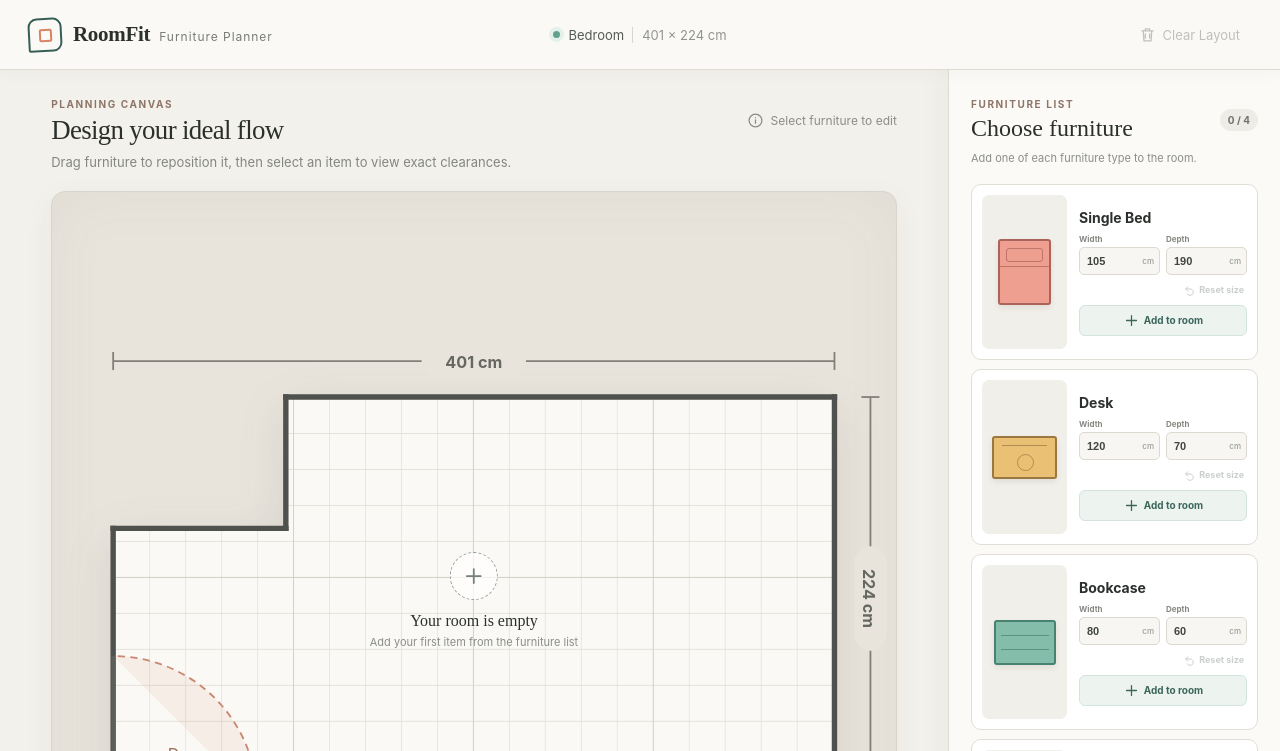
Scenario: RoomFit interface › rotates, nudges, and removes a selected item
Step 1. Click the button named "Add Desk" → point(1024, 457), box [982,380,1067,534]
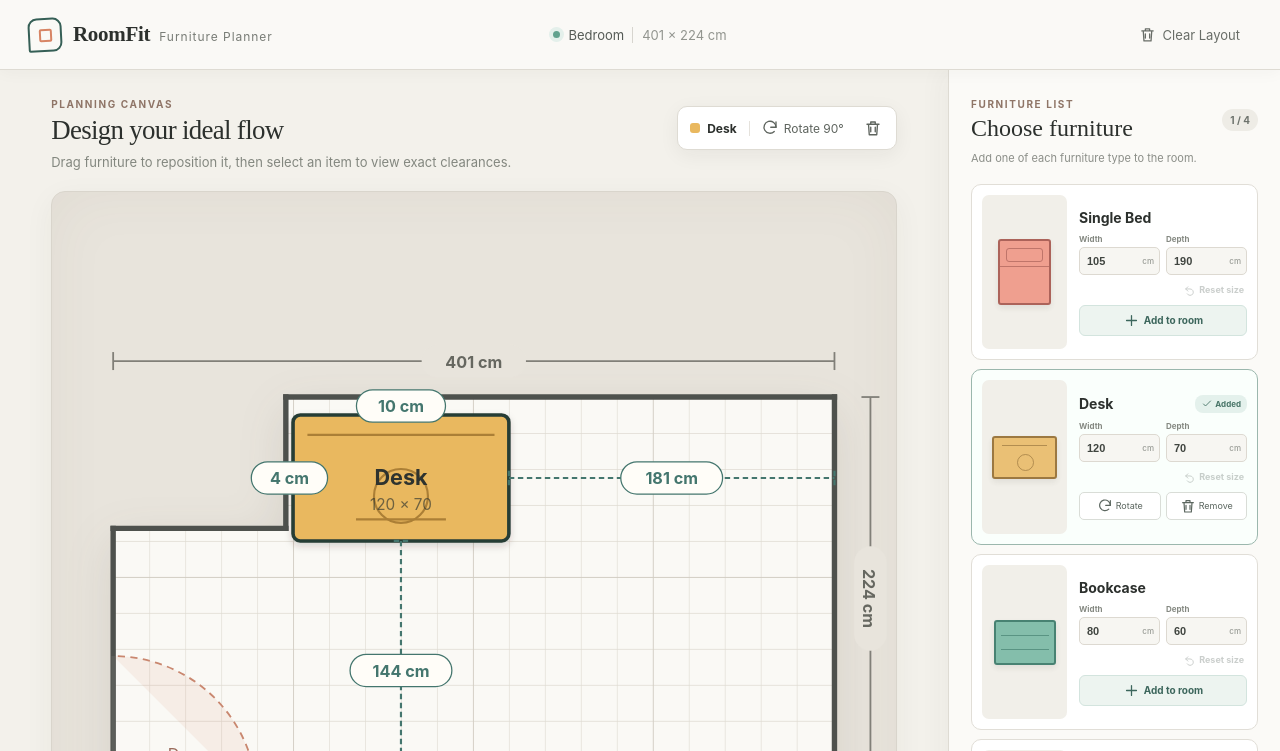
Step 2. Press ArrowRight in the button "Desk, 120 by 70 centimeters", box [370,464,432,514]
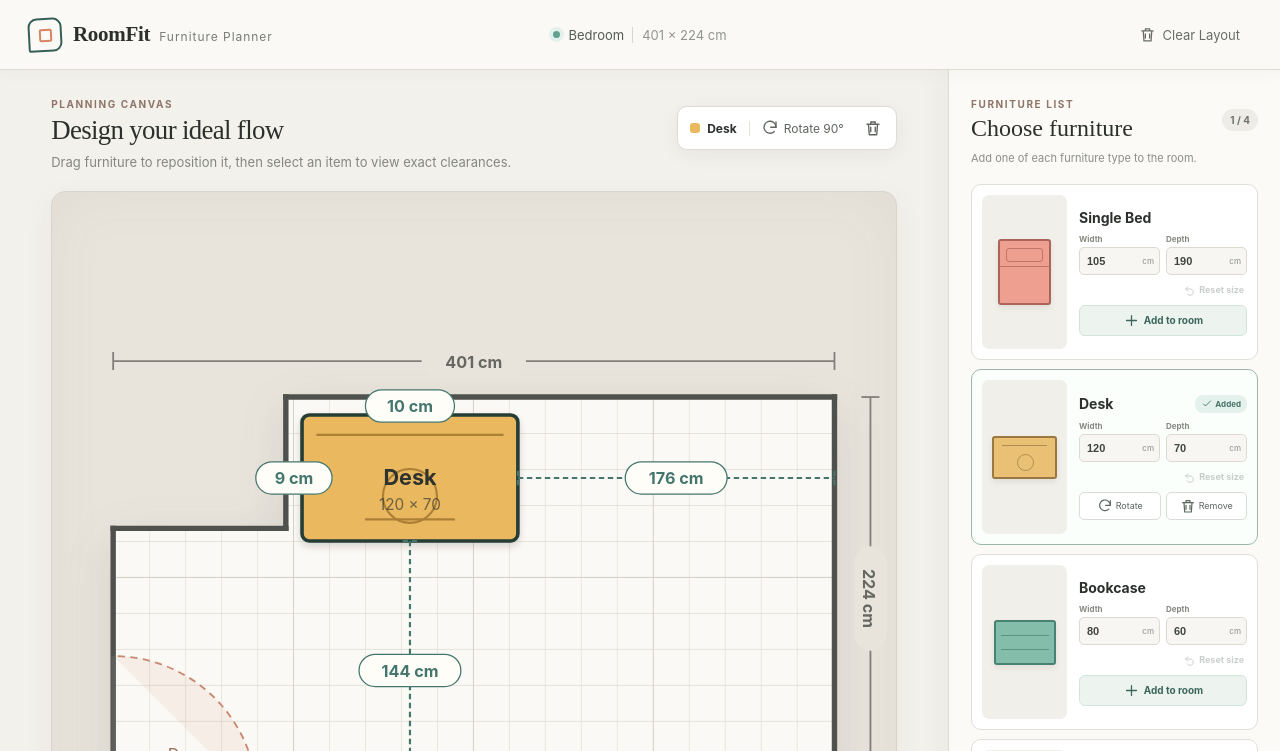
Step 3. Click the button "Rotate 90°" → point(802, 128), box [752,112,853,144]
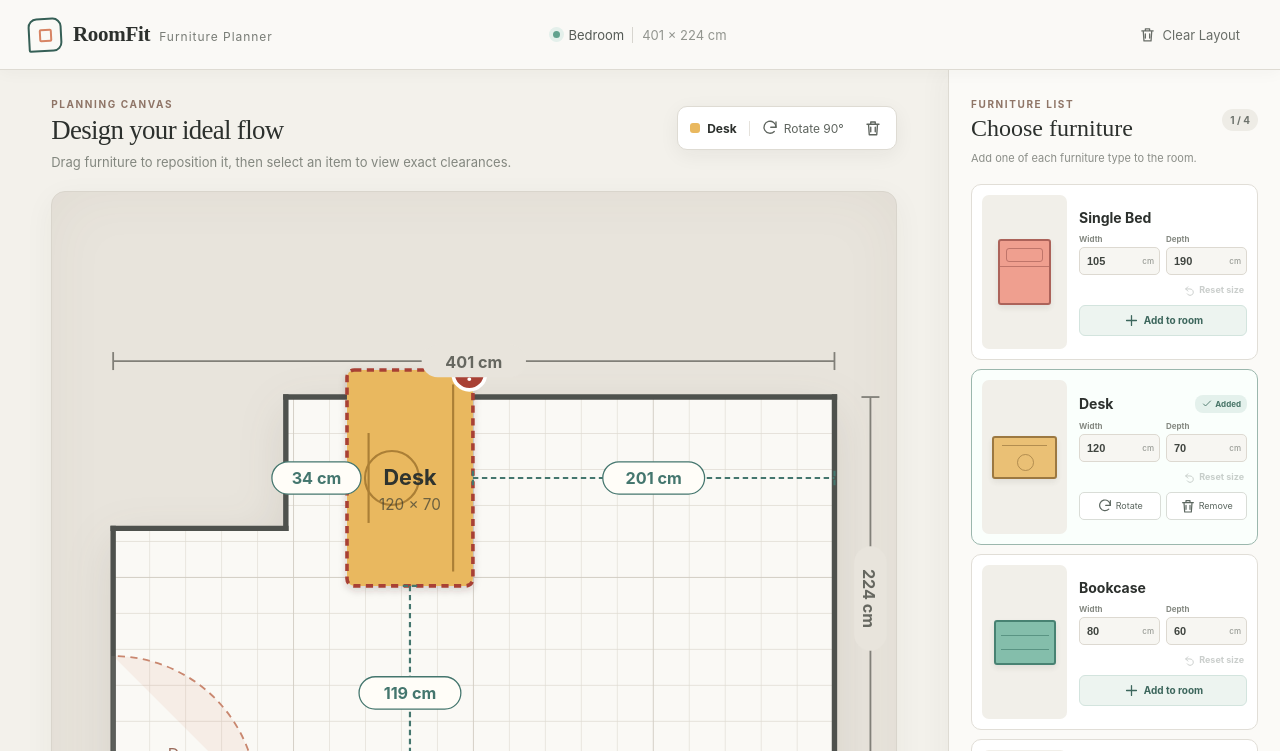
Step 4. Click the button titled "Remove furniture" → point(873, 128), box [855,112,891,144]
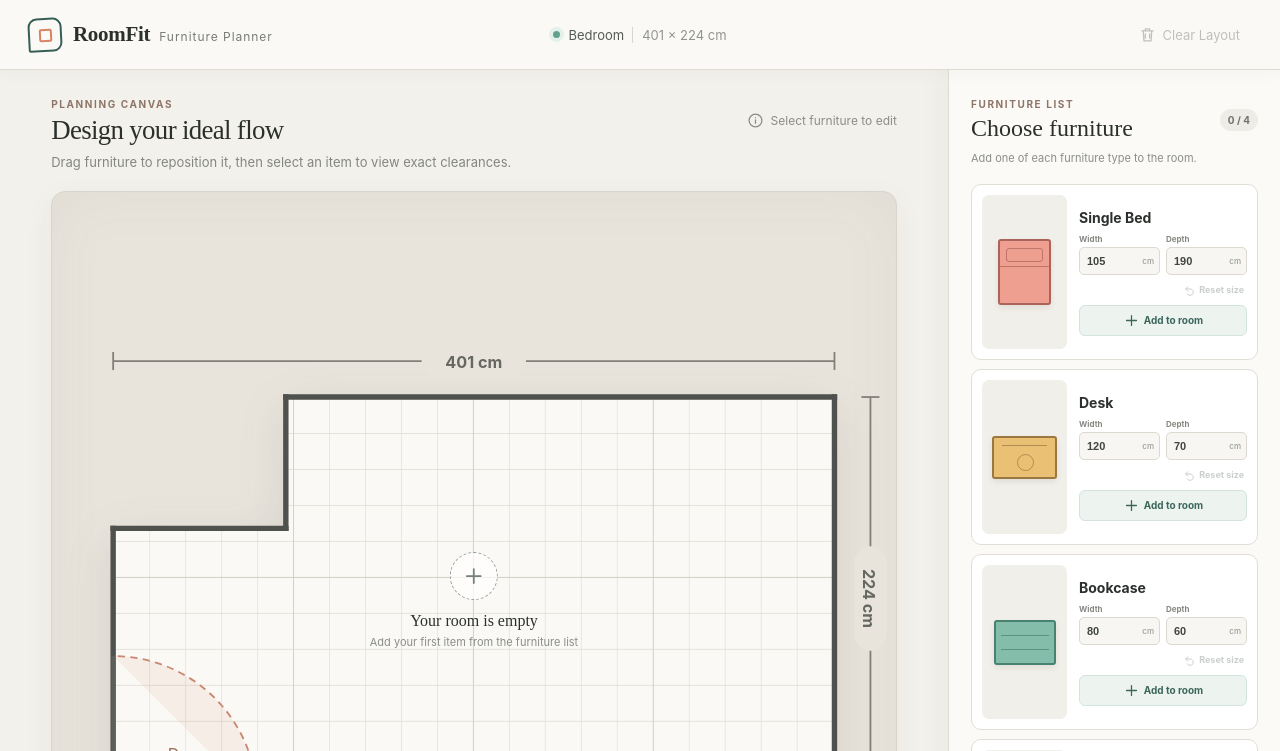
Check: the text "0 / 4" is shown, box [1220,109,1258,131]
